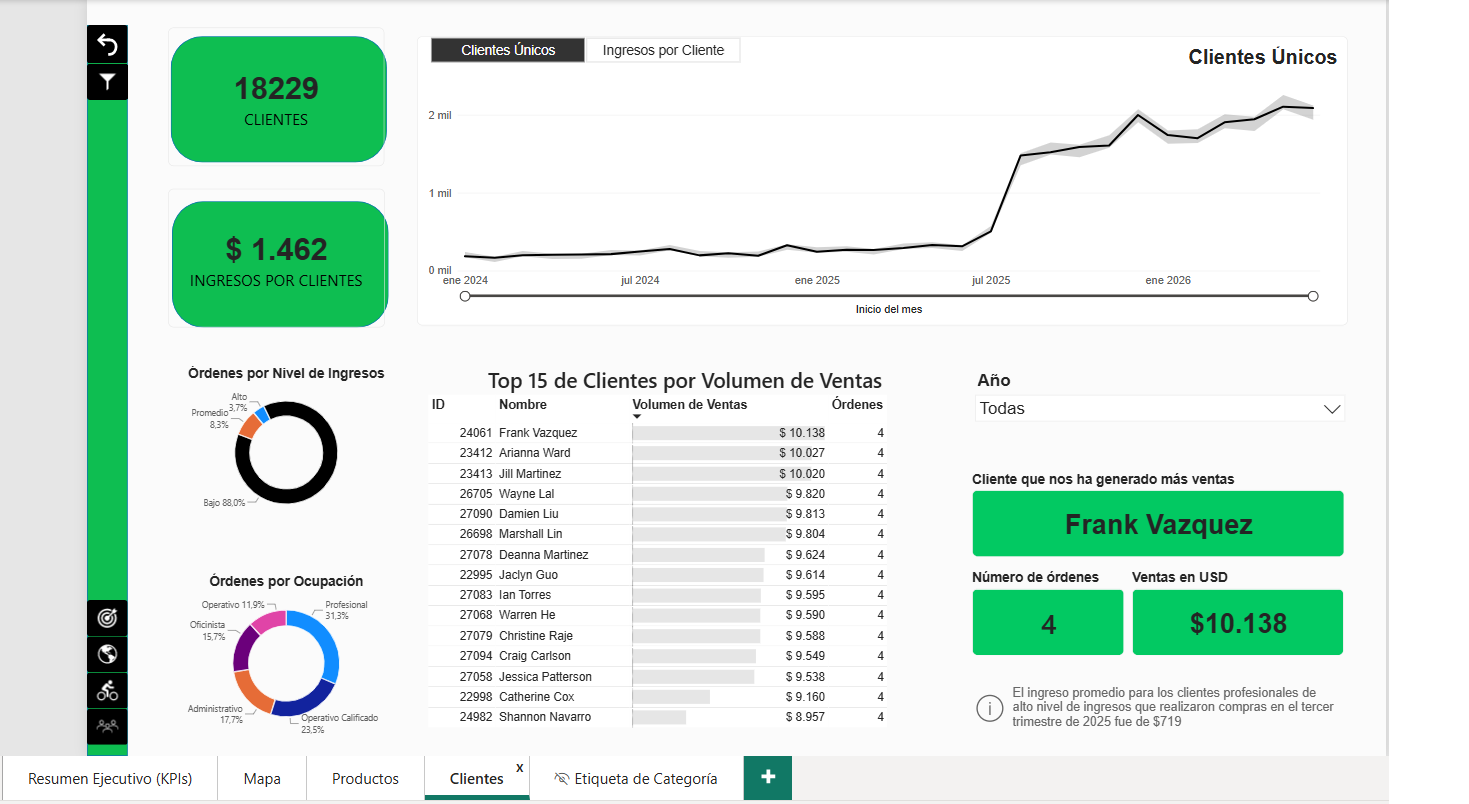

What the dashboard file says about the page in this screenshot:
{"tool":"powerbi","page":{"name":"Clientes","canvas":[1920,1080],"ordinal":3},"visuals":[{"type":"shape","title":"Fondo Barra Navegación","box":[0,0,60,1080],"z":0},{"type":"shape","box":[123.8,16.4,319.5,186.5],"z":1000},{"type":"shape","box":[125.8,260.1,320,186.7],"z":2000},{"type":"lineChart","fields":{"Category":["Calendario.Inicio del mes"],"Y":["Tabla de Medidas.Clientes Unicos"]},"box":[487.5,17.5,1375,427.5],"z":3000},{"type":"card","fields":{"Values":["Tabla de Medidas.Clientes Unicos"]},"box":[120.1,3.5,319.5,205],"z":4000},{"type":"card","fields":{"Values":["Tabla de Medidas.Ingresos por Clientes"]},"box":[120.8,241.8,320,205],"z":5000},{"type":"donutChart","title":"Órdenes por Nivel de Ingresos","fields":{"Category":["Clientes.Nivel de Ingresos"],"Y":["Tabla de Medidas.Total de Ordenes"]},"box":[128,490,334,262],"z":6000},{"type":"donutChart","title":"Órdenes por Ocupación","fields":{"Category":["Clientes.Ocupacion"],"Y":["Tabla de Medidas.Total de Ordenes"]},"box":[128,796,334,272],"z":7000},{"type":"tableEx","title":"Top 15 de Clientes por Volumen de Ventas","fields":{"Values":["Clientes.IDCliente","Clientes.Nombre Completo","Tabla de Medidas.Total de Ingresos","Tabla de Medidas.Total de Ordenes"]},"box":[488,490,792,578],"z":8000},{"type":"cardVisual","title":"Cliente que nos ha generado más ventas","fields":{"Data":["Tabla de Medidas.Nombre completo (HAS ONE VALUE)"]},"box":[1307.2,659.3,550,126.7],"z":9000},{"type":"cardVisual","title":"Número de órdenes","fields":{"Data":["Tabla de Medidas.Total Ordenes (HAS ONE VALUE)"]},"box":[1307.8,805.6,225,126.7],"z":10000},{"type":"cardVisual","title":"Ventas en USD","fields":{"Data":["Tabla de Medidas.Total de Ingresos (HAS ONE VALUE)"]},"box":[1543.8,806,313.3,126.7],"z":11000},{"type":"slicer","fields":{"Values":["Calendario.Año"]},"box":[1307.5,509.7,555.9,110.8],"z":12000},{"type":"actionButton","box":[1307.5,956.6,550.3,105.3],"z":13000},{"type":"actionButton","box":[0,0,60,56.7],"z":14000},{"type":"actionButton","box":[0,849.3,60,53.3],"z":15000},{"type":"actionButton","box":[0,956,60,53.3],"z":16000},{"type":"actionButton","box":[0,1009.3,60,53.3],"z":17000},{"type":"actionButton","box":[0,902.7,60,53.3],"z":18000},{"type":"actionButton","box":[0,57.3,60.9,53.6],"z":19000},{"type":"slicer","title":"Selección de Métricas de Cliente","fields":{"Values":["Selección de Métricas de Clientes.Selección de Métricas de Clientes"]},"box":[487.6,16.6,496.8,40.6],"z":20000}]}

Visuals, with their boxes on the page's 1920x1080 design canvas (x1, y1, x2, y2). These are canvas units, not pixel positions in the 1469x804 screenshot, which may show the page scaled, cropped or inside an application window:
"Fondo Barra Navegación" shape: BBox(0, 0, 60, 1080)
shape: BBox(124, 16, 443, 203)
shape: BBox(126, 260, 446, 447)
lineChart - Calendario.Inicio del mes x Tabla de Medidas.Clientes Unicos: BBox(488, 18, 1862, 445)
card - Tabla de Medidas.Clientes Unicos: BBox(120, 4, 440, 208)
card - Tabla de Medidas.Ingresos por Clientes: BBox(121, 242, 441, 447)
"Órdenes por Nivel de Ingresos" donutChart: BBox(128, 490, 462, 752)
"Órdenes por Ocupación" donutChart: BBox(128, 796, 462, 1068)
"Top 15 de Clientes por Volumen de Ventas" tableEx: BBox(488, 490, 1280, 1068)
"Cliente que nos ha generado más ventas" cardVisual: BBox(1307, 659, 1857, 786)
"Número de órdenes" cardVisual: BBox(1308, 806, 1533, 932)
"Ventas en USD" cardVisual: BBox(1544, 806, 1857, 933)
slicer - Calendario.Año: BBox(1308, 510, 1863, 620)
actionButton: BBox(1308, 957, 1858, 1062)
actionButton: BBox(0, 0, 60, 57)
actionButton: BBox(0, 849, 60, 903)
actionButton: BBox(0, 956, 60, 1009)
actionButton: BBox(0, 1009, 60, 1063)
actionButton: BBox(0, 903, 60, 956)
actionButton: BBox(0, 57, 61, 111)
"Selección de Métricas de Cliente" slicer: BBox(488, 17, 984, 57)
